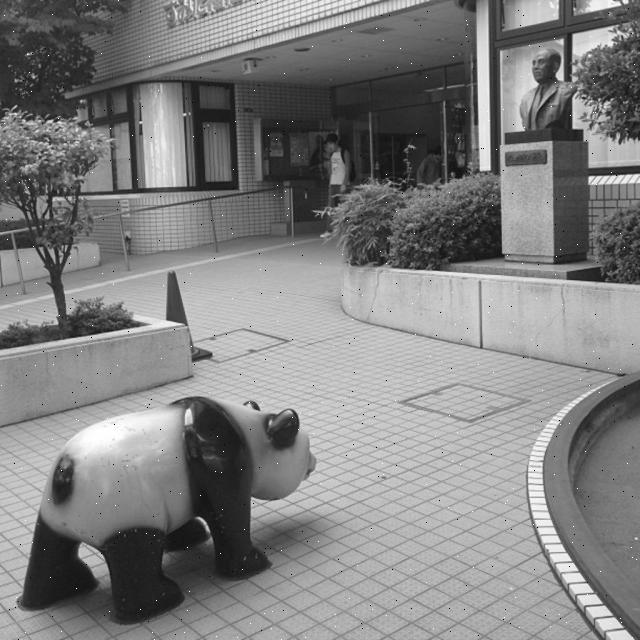panda: (17, 394, 318, 626)
